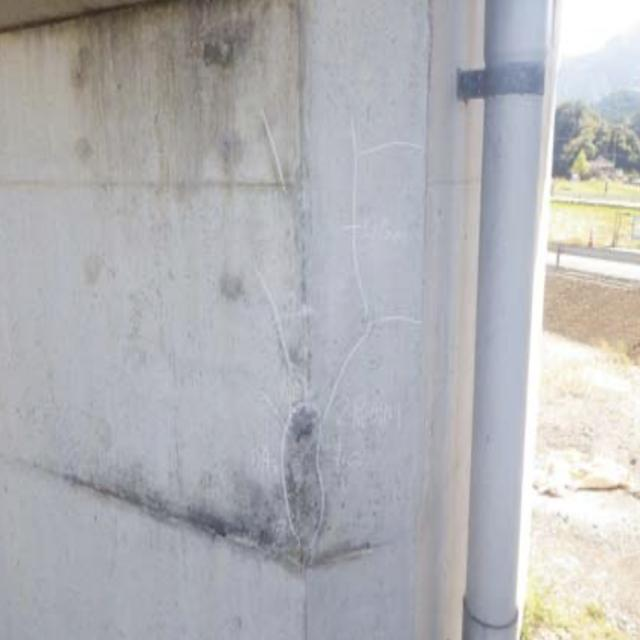spalling: (263, 376, 341, 561)
